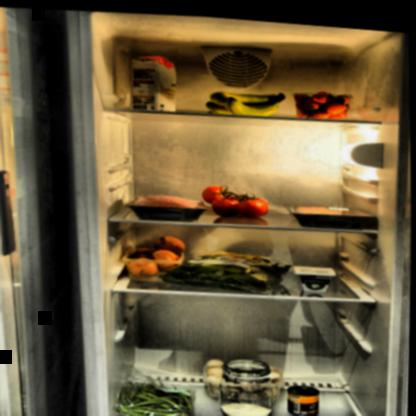banana: (204, 83, 286, 116)
beef: (282, 194, 376, 226)
corn: (288, 379, 323, 413)
green_beans: (114, 368, 205, 415)
ground_beef: (126, 187, 211, 221)
mushrooms: (206, 352, 284, 402)
onion: (121, 230, 191, 282)
spinach: (159, 240, 295, 295)
strawberries: (293, 81, 357, 116)
tomato: (201, 178, 275, 218)
